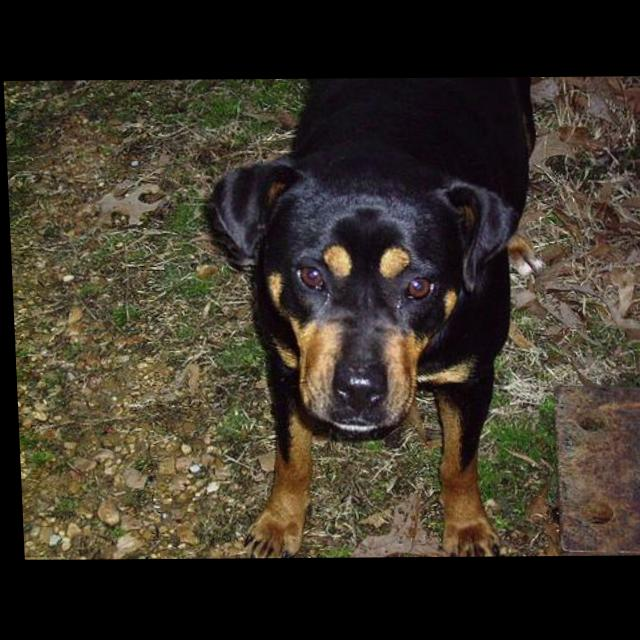rottweiler: (200, 78, 555, 559)
